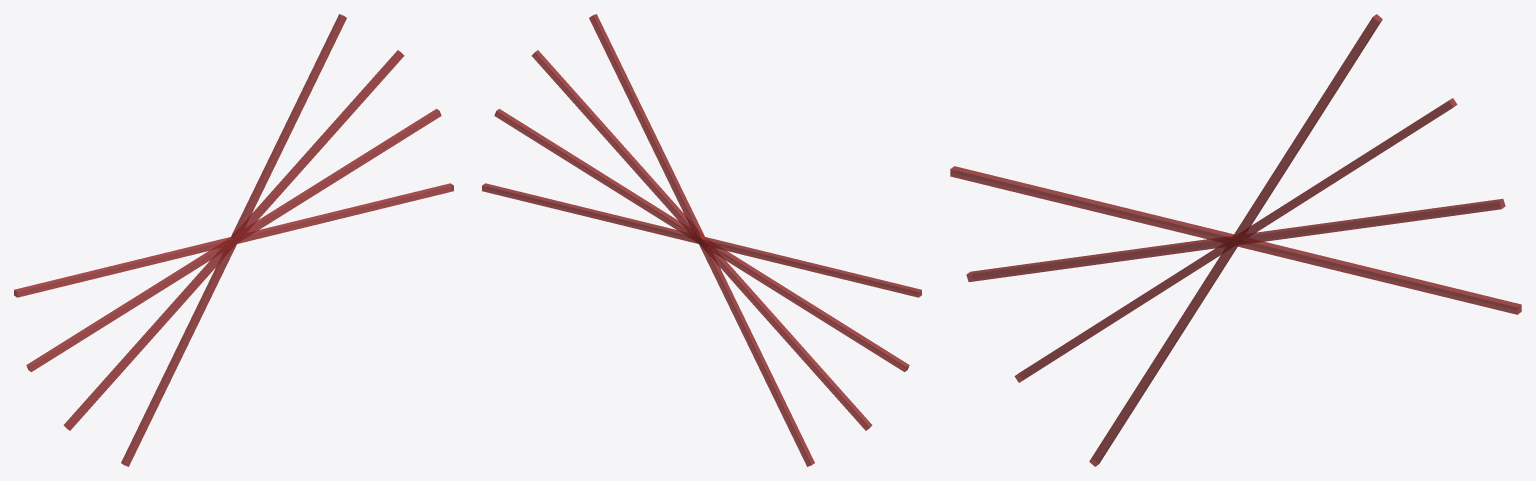
The model's file is Lvl_016.fbx.
3 renders of one model, left to right at view 1: azimuth 30°, elevation 25°; view 2: azimuth 150°, elevation 25°; view 3: azimuth 330°, elevation 25°, orthographic. The views are drawn at different scales.
Parts seen in each view (by area): view 1: pCube2, pCube56, pCube57, pCube58; view 2: pCube56, pCube2, pCube57, pCube58; view 3: pCube58, pCube57, pCube56, pCube2.
Part boxes in pixels (x1,y1,x2,y2): pCube2: (63,50,404,430); pCube56: (121,14,346,466); pCube57: (26,109,441,371); pCube58: (14,183,453,297); pCube56: (589,14,814,466); pCube2: (531,50,872,430); pCube57: (494,109,909,371); pCube58: (482,183,921,297); pCube58: (950,166,1521,314); pCube57: (966,199,1505,281); pCube56: (1089,14,1382,466); pCube2: (1014,98,1457,382).
Size of the model in its own units: 2000 by 1745 by 25.
